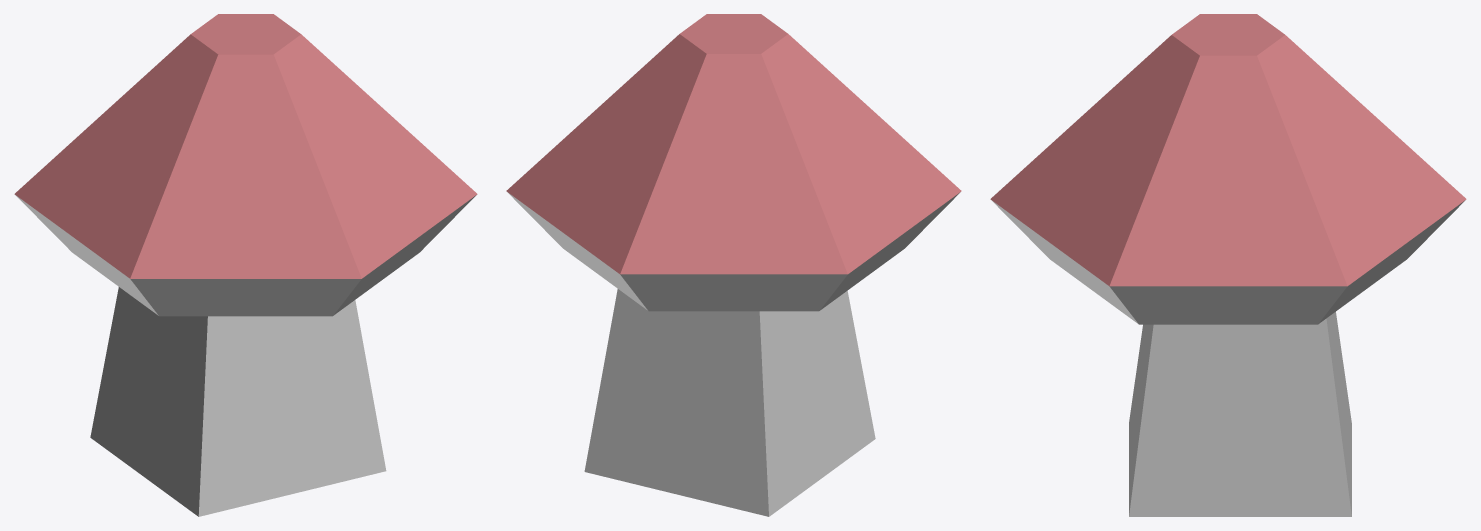
The model's file is mushroom_red.glb.
3 renders of one model, left to right at view 1: azimuth 30°, elevation 25°; view 2: azimuth 150°, elevation 25°; view 3: azimuth 270°, elevation 25°, orthographic. The views are drawn at different scales.
Visible parts, largest first — view 1: mushroom_red; view 2: mushroom_red; view 3: mushroom_red.
Boxes of the visible parts, left/top/right/bottom form: mushroom_red: left=14, top=14, right=477, bottom=516; mushroom_red: left=506, top=14, right=961, bottom=516; mushroom_red: left=990, top=14, right=1466, bottom=516.
Size of the model in its own units: 0.174 by 0.2028 by 0.2009.
